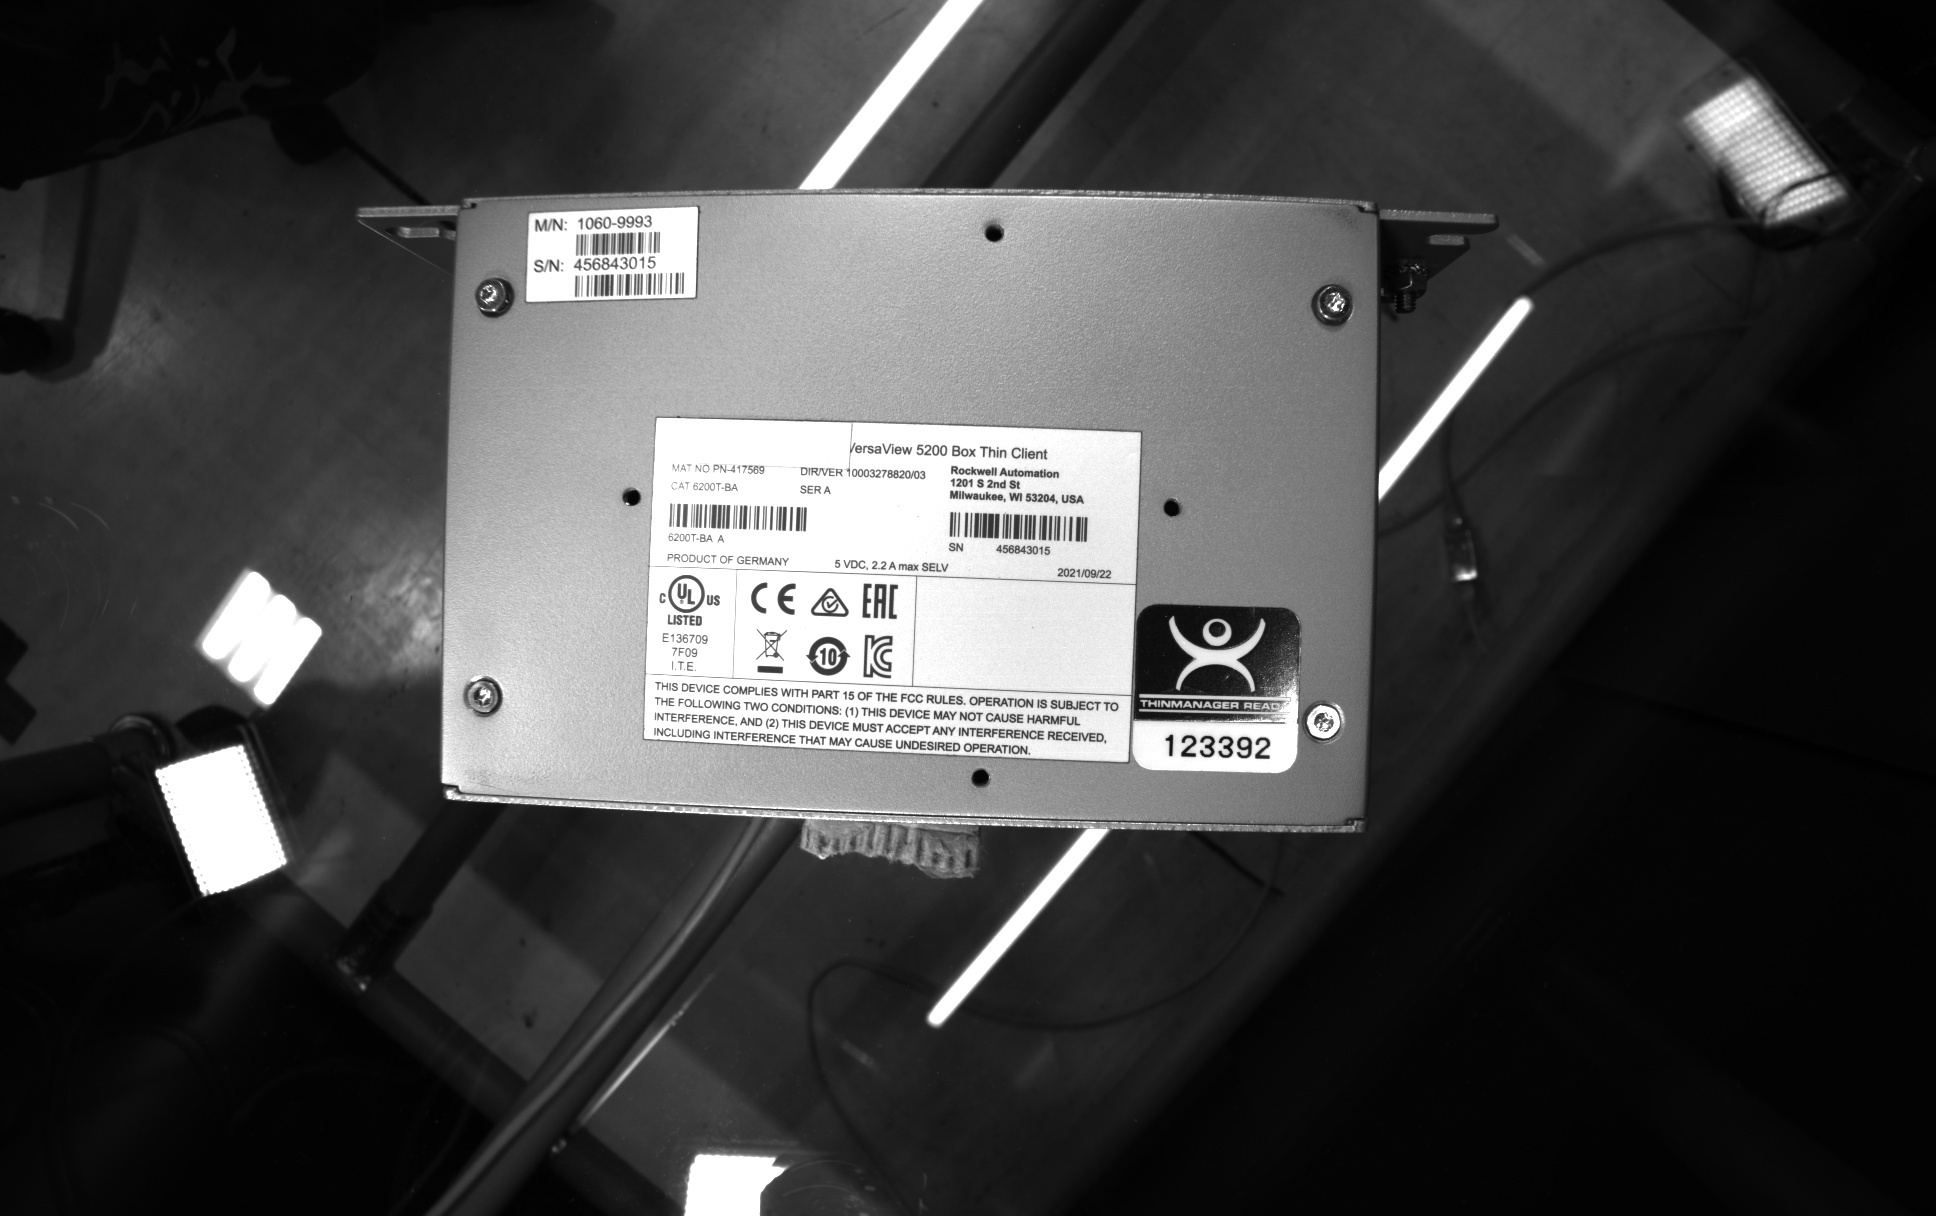Barcode: (939, 506, 1095, 549), (660, 499, 813, 539), (565, 268, 691, 300), (566, 228, 665, 263)
CamTop: (426, 177, 1399, 852)
Label_Seriennummer: (635, 399, 1152, 776)
Loch_Montage: (609, 474, 650, 518), (957, 762, 1002, 801), (1153, 486, 1192, 528), (976, 212, 1016, 251)
Schraube: (457, 668, 507, 724), (1299, 696, 1349, 751)
Schraube_halb: (1308, 277, 1364, 331), (466, 270, 516, 322)
